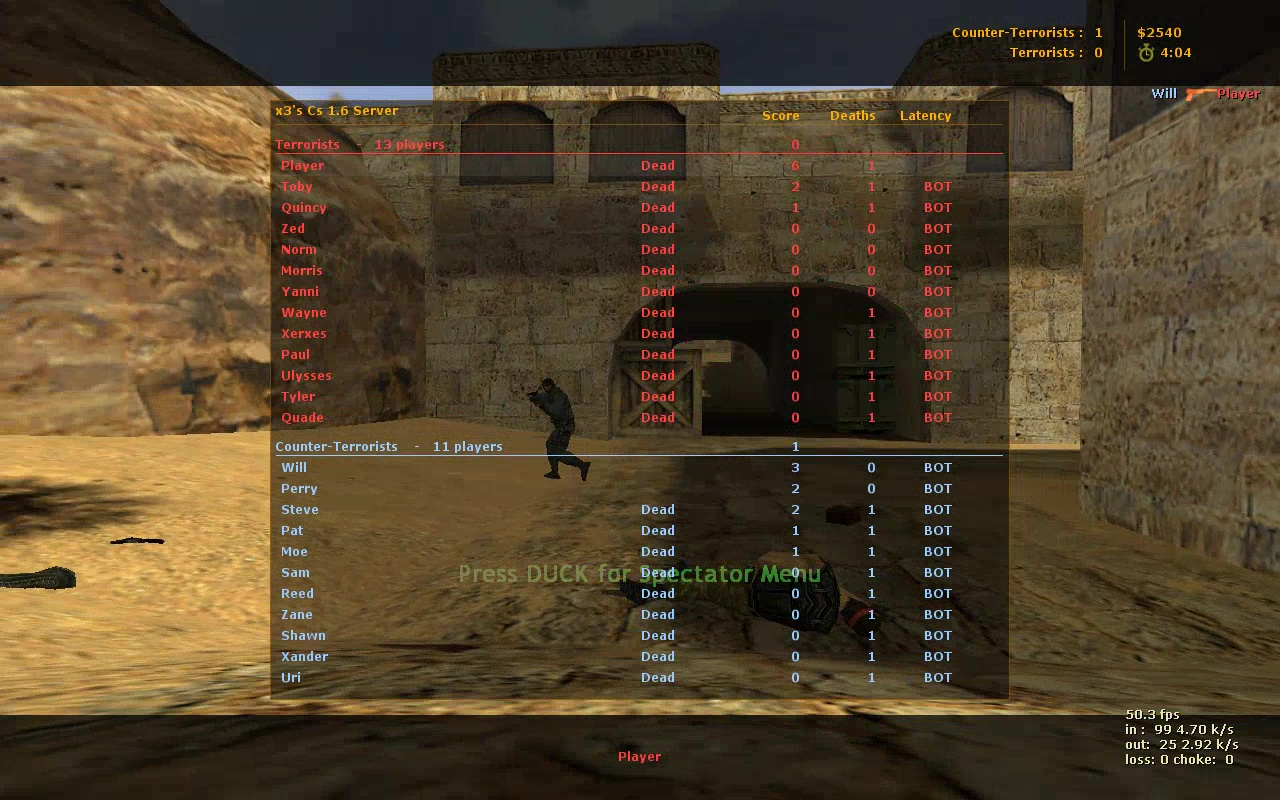ct: (525, 381, 592, 480)
dead: (621, 549, 890, 651)
